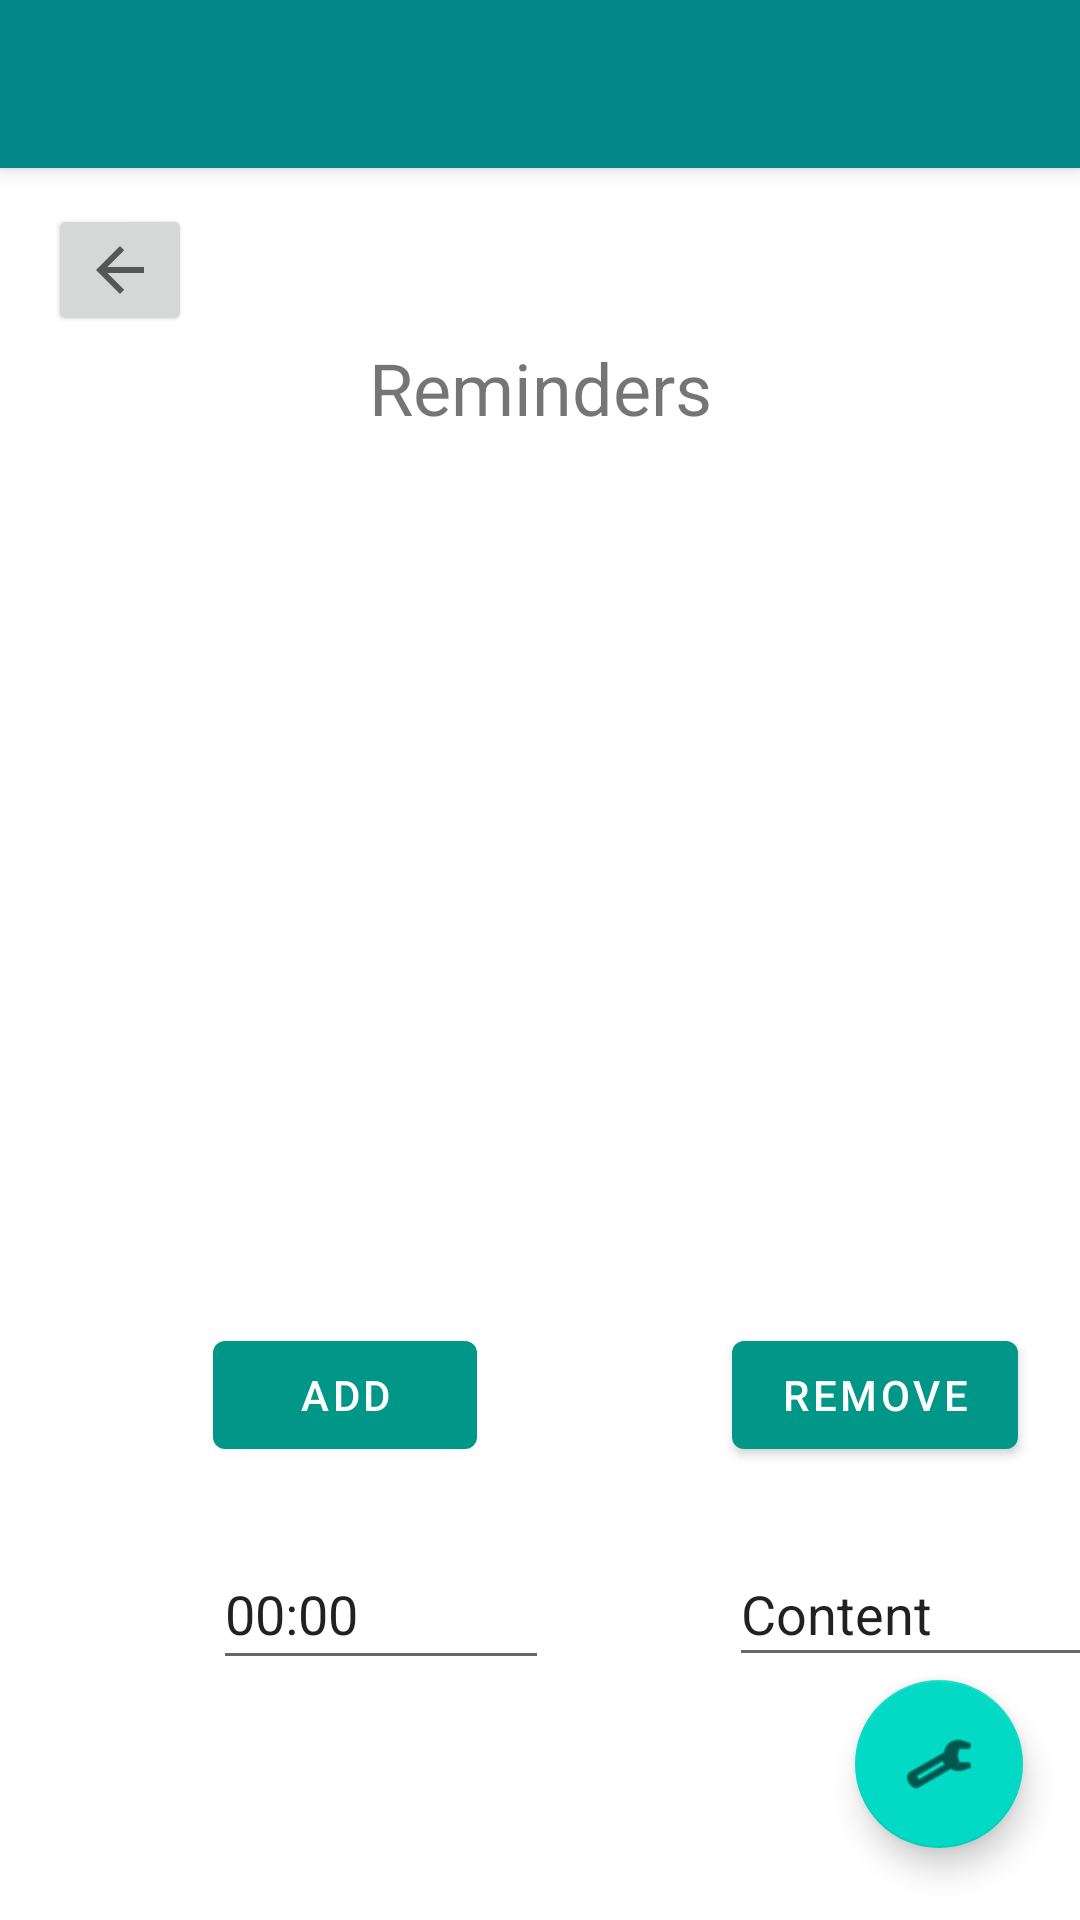

Icons on this 1080*1920 Android screen, each with its box as (x1, y1, x2, y2):
preferences: (855, 1680, 1023, 1848)
